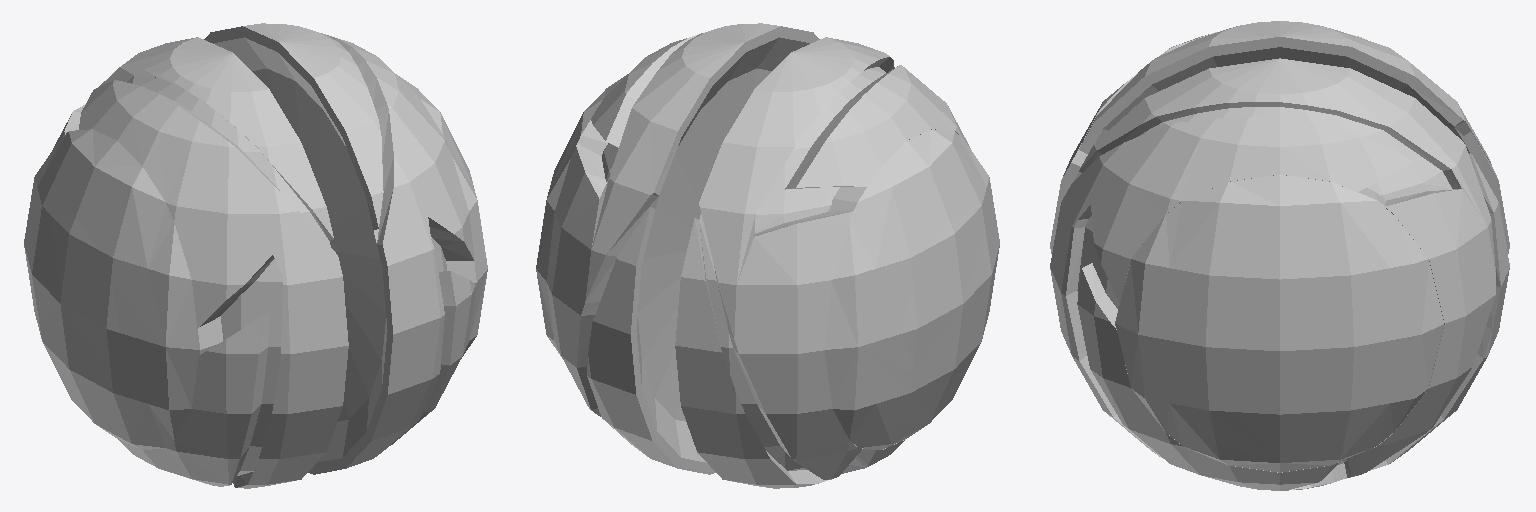
File: Varia Suit Morph Ball (Spider Ball).obj
3 views of the same model, side by side, from view 1: azimuth 30°, elevation 25°; view 2: azimuth 150°, elevation 25°; view 3: azimuth 270°, elevation 25° (orthographic).
Visible parts, largest first — view 1: 223353fe_CMDL, ae78bebe_CMDL; view 2: 223353fe_CMDL, ae78bebe_CMDL; view 3: 223353fe_CMDL, ae78bebe_CMDL.
Boxes of the visible parts, x1,y1,x2,y2 form: 223353fe_CMDL: [53, 23, 475, 488]; ae78bebe_CMDL: [24, 74, 487, 449]; 223353fe_CMDL: [547, 23, 970, 488]; ae78bebe_CMDL: [536, 74, 999, 449]; 223353fe_CMDL: [1050, 21, 1509, 490]; ae78bebe_CMDL: [1115, 175, 1443, 472].
Bounding box in the file's own units: 0.9994 × 1.02 × 1.02.